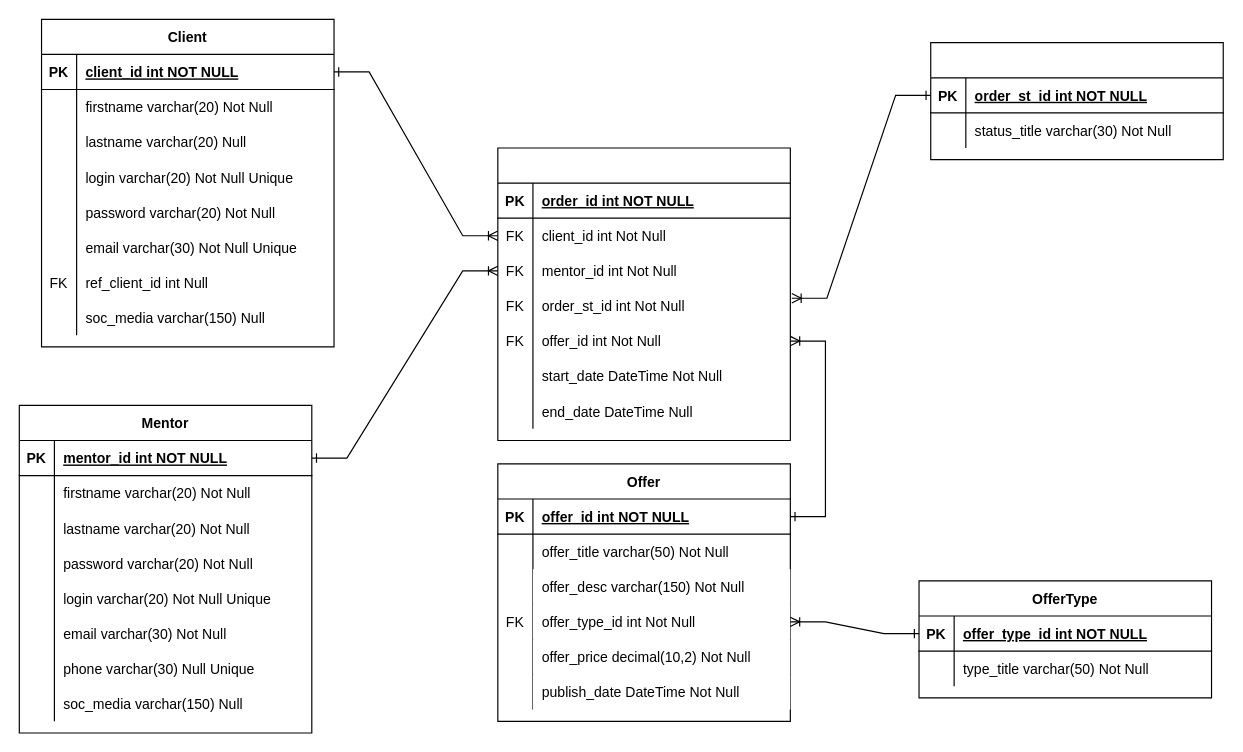
Image size: 1243x752. Some labels were removed from this diagram. The shapes that lost their labels are listed below. From the top down, each one's box as (x1, y1, x2, y2) in pixels, then its label:
(930, 42, 1223, 160): OrderStatus
(497, 147, 790, 441): ClientOrder
